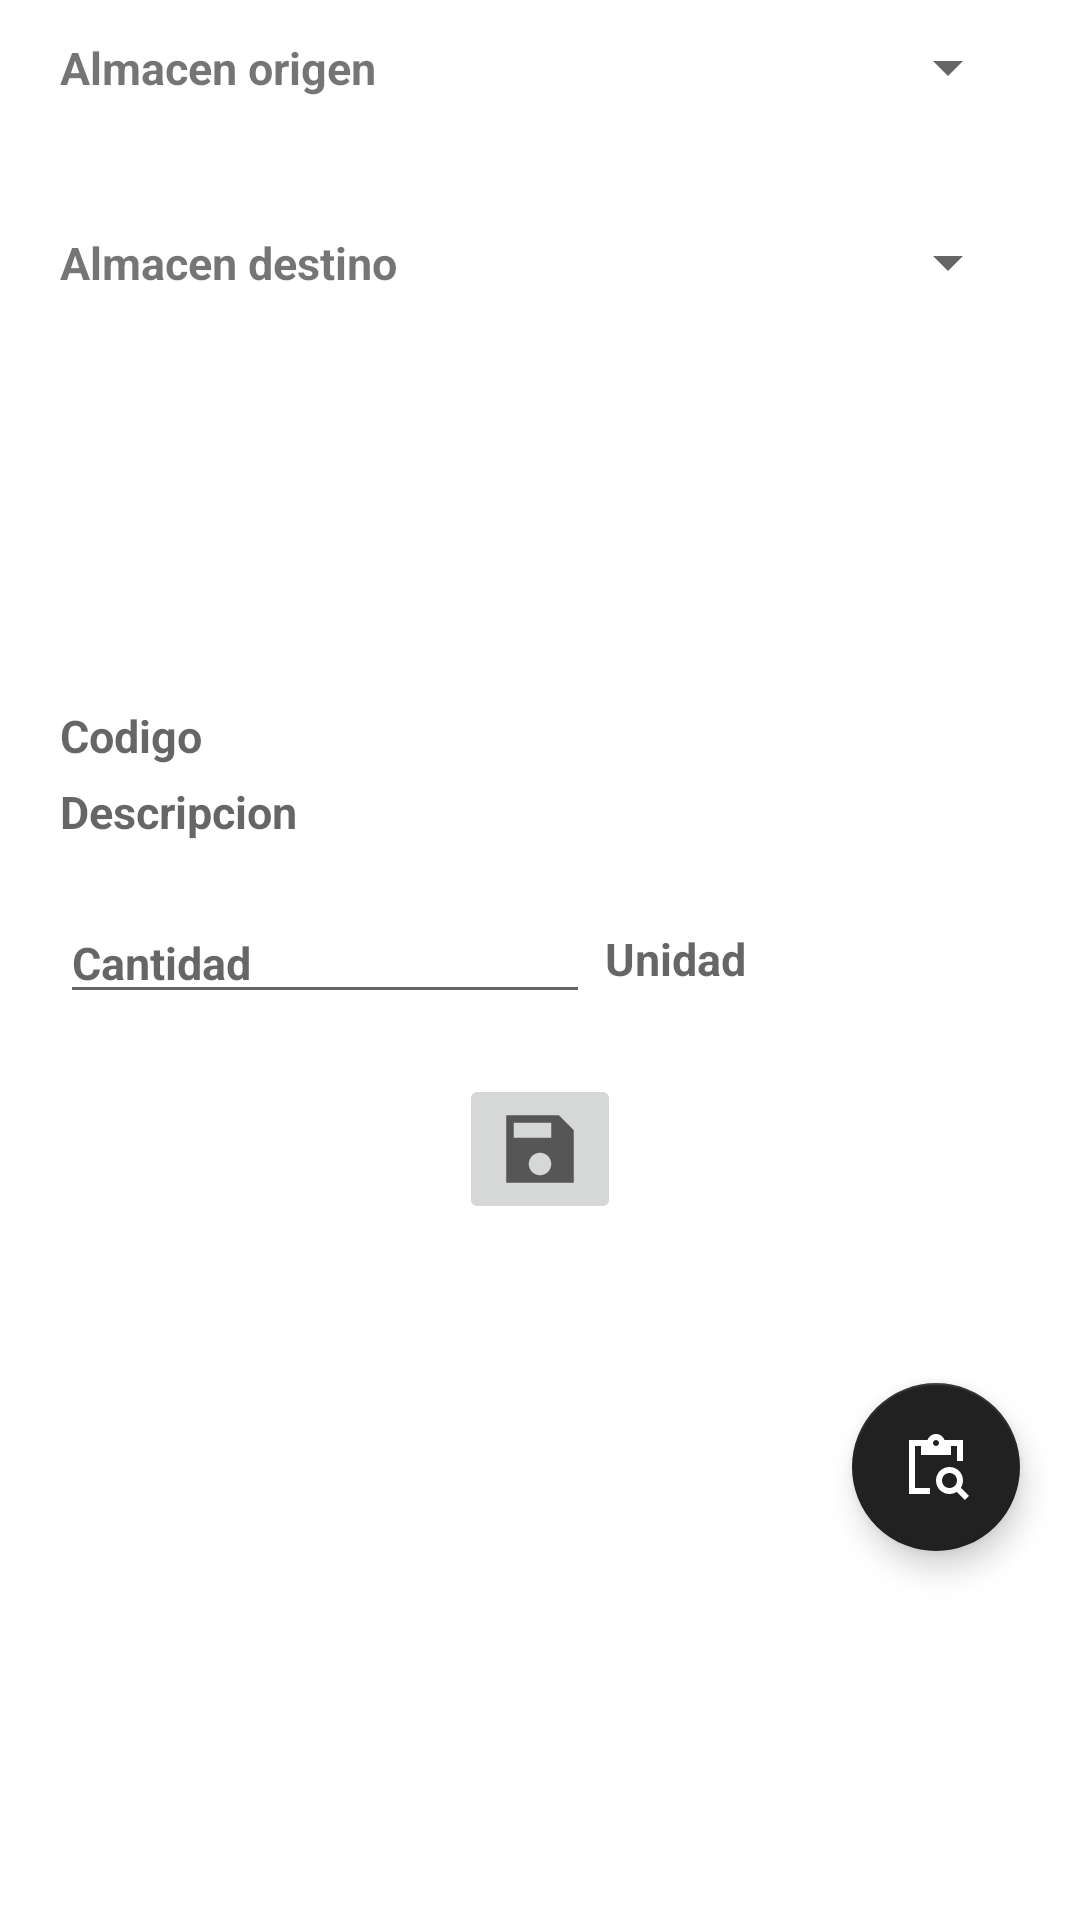

Screen size 1080 x 1920. Icon name, then its center in pixels as (x=x, y=y):
paste search: (x=936, y=1467)
save: (x=540, y=1149)
